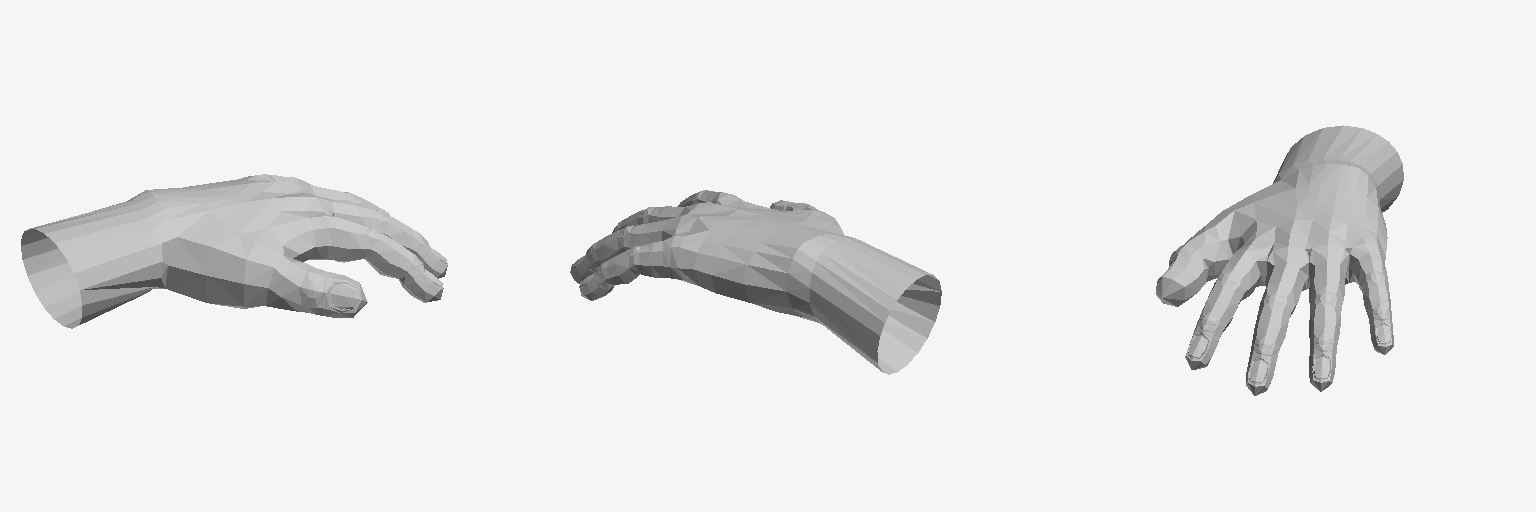
Rendered from Hand _smooth.obj.
The picture shows the model from 3 angles: view 1: azimuth 30°, elevation 25°; view 2: azimuth 150°, elevation 25°; view 3: azimuth 270°, elevation 25°; orthographic projection.
Visible parts, largest first — view 1: Plane.001; view 2: Plane.001; view 3: Plane.001.
Part boxes in pixels (left/top/right/bottom): Plane.001: left=21, top=174, right=447, bottom=328; Plane.001: left=570, top=190, right=941, bottom=374; Plane.001: left=1156, top=125, right=1403, bottom=395.
Bounding box in the file's own units: 0.6713 × 0.2011 × 0.4012.